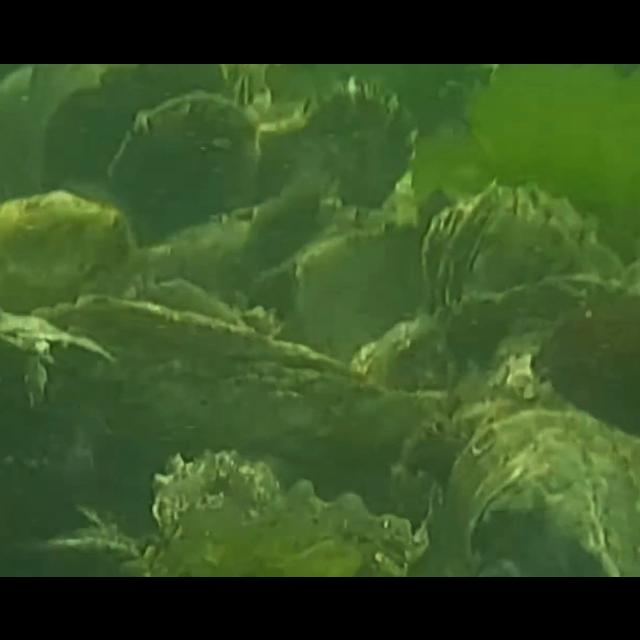Oyster-Closed: (30, 290, 384, 450), (351, 272, 640, 401), (150, 448, 430, 576), (442, 407, 640, 576), (420, 180, 600, 320), (112, 90, 264, 244), (289, 216, 429, 364), (1, 188, 138, 316), (293, 72, 415, 214), (0, 308, 116, 404)
